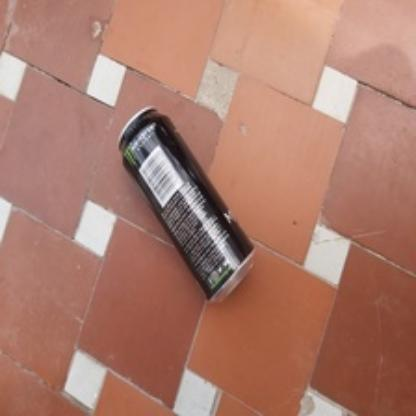Can: (118, 104, 256, 304)
